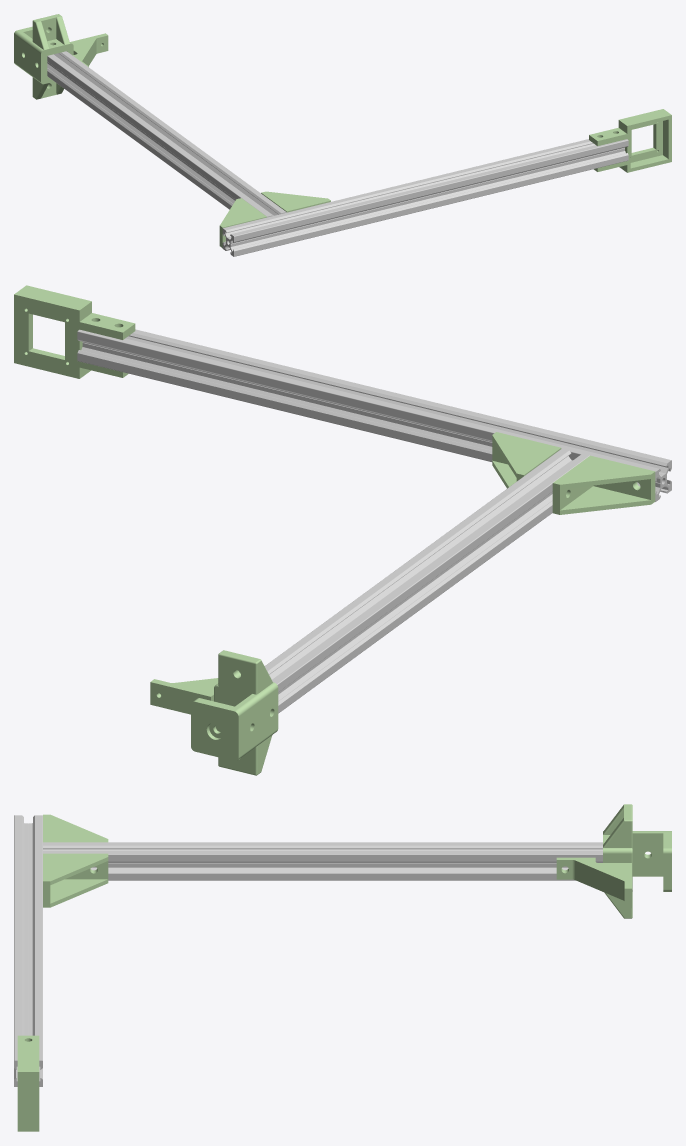
The model's file is Camera.gltf.
3 renders of one model, top to bottom at view 1: azimuth 30°, elevation 25°; view 2: azimuth 150°, elevation 25°; view 3: azimuth 270°, elevation 25°, orthographic. The views are drawn at different scales.
Parts seen in each view (by area): view 1: V-Slot Linear Rail 20x20mm (×2), Part 1 (×5); view 2: V-Slot Linear Rail 20x20mm (×2), Part 1 (×5); view 3: V-Slot Linear Rail 20x20mm (×2), Part 1 (×5).
Boxes of the visible parts, bbox=[...] form: V-Slot Linear Rail 20x20mm (×2): bbox=[47, 51, 628, 256]; Part 1 (×5): bbox=[14, 14, 671, 247]; V-Slot Linear Rail 20x20mm (×2): bbox=[77, 329, 671, 713]; Part 1 (×5): bbox=[14, 285, 655, 775]; V-Slot Linear Rail 20x20mm (×2): bbox=[14, 815, 602, 1086]; Part 1 (×5): bbox=[17, 804, 671, 1131].
Size of the model in its own units: 0.4454 by 0.075 by 0.453.
